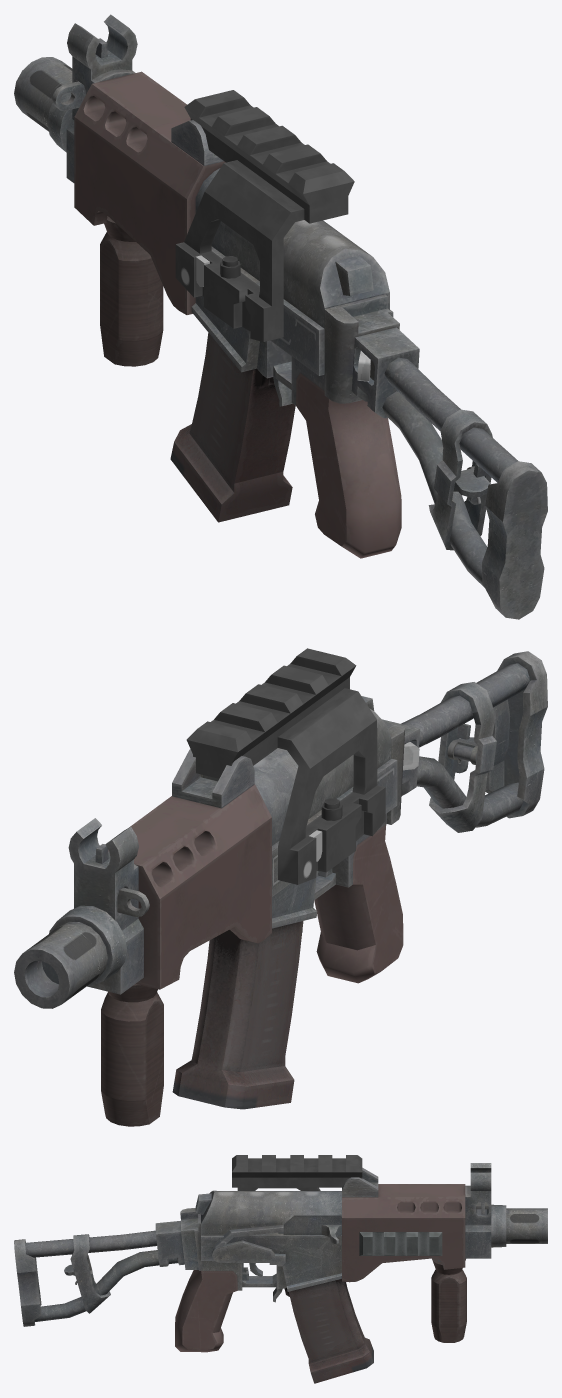
Rendered from IG_Gun_SR3M.fbx.
3 views of the same model, one above another, from view 1: azimuth 30°, elevation 25°; view 2: azimuth 150°, elevation 25°; view 3: azimuth 270°, elevation 25° (orthographic). The views are drawn at different scales.
Parts seen in each view (by area): view 1: WPN_SR3M, HideIf_Stock, ShowIf_Scope, HideIf_Muzzle, HideIf_Scope; view 2: WPN_SR3M, ShowIf_Scope, HideIf_Stock, HideIf_Muzzle, HideIf_Scope; view 3: WPN_SR3M, HideIf_Stock, ShowIf_Scope, HideIf_Muzzle, ShowIf_Tec, HideIf_Scope.
Part boxes in pixels (x1,y1,x2,y2): WPN_SR3M: (52, 14, 401, 558); HideIf_Stock: (351, 327, 547, 619); ShowIf_Scope: (175, 90, 354, 341); HideIf_Muzzle: (14, 57, 72, 152); HideIf_Scope: (171, 120, 223, 165); WPN_SR3M: (68, 696, 405, 1126); ShowIf_Scope: (186, 648, 385, 884); HideIf_Stock: (382, 651, 547, 832); HideIf_Muzzle: (14, 905, 127, 1008); HideIf_Scope: (172, 749, 254, 808); WPN_SR3M: (175, 1163, 491, 1383); HideIf_Stock: (14, 1220, 184, 1326); ShowIf_Scope: (232, 1155, 362, 1190); HideIf_Muzzle: (491, 1204, 547, 1247); ShowIf_Tec: (359, 1232, 442, 1255); HideIf_Scope: (342, 1167, 378, 1197).
Size of the model in its own units: 0.1455 by 0.4129 by 0.9336.
